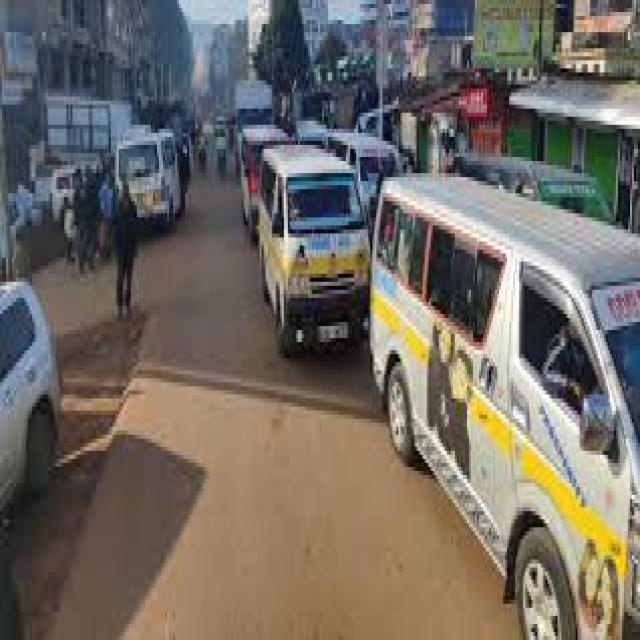matatu: (375, 159, 640, 640), (259, 150, 367, 368), (108, 129, 186, 231), (237, 127, 262, 249)
